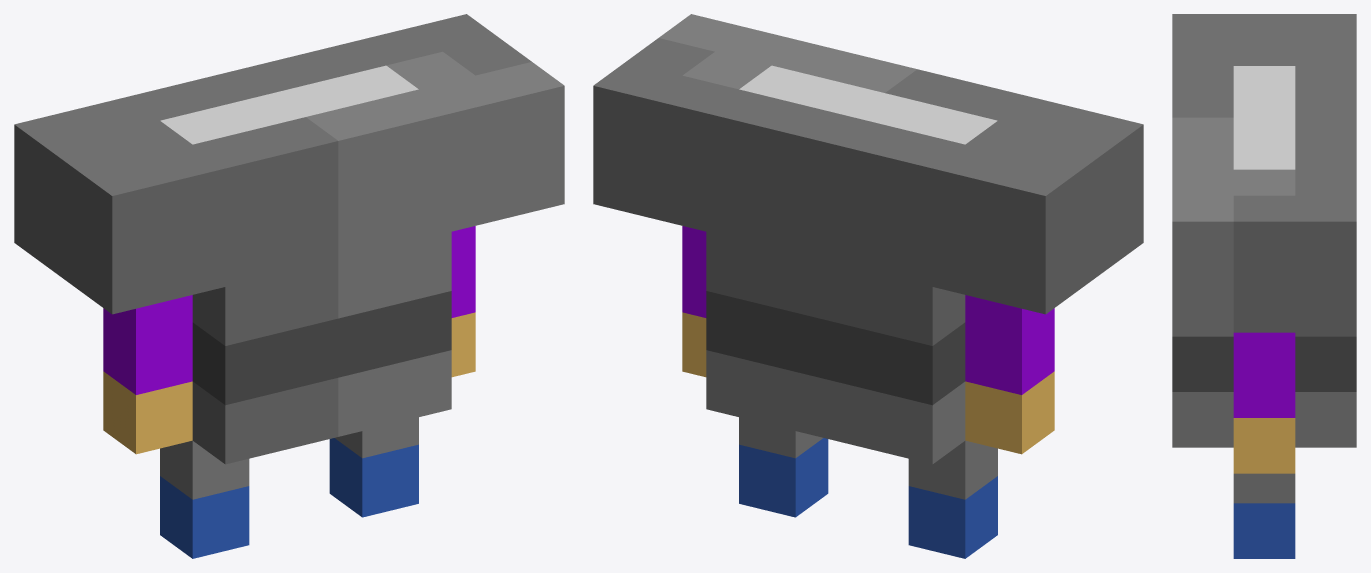
Rendered from Body 6.obj.
3 renders of one model, left to right at view 1: azimuth 30°, elevation 25°; view 2: azimuth 150°, elevation 25°; view 3: azimuth 270°, elevation 25°, orthographic. The views are drawn at different scales.
Size of the model in its own units: 8 by 7 by 3.
Materials: 1 (1 with a texture image).
